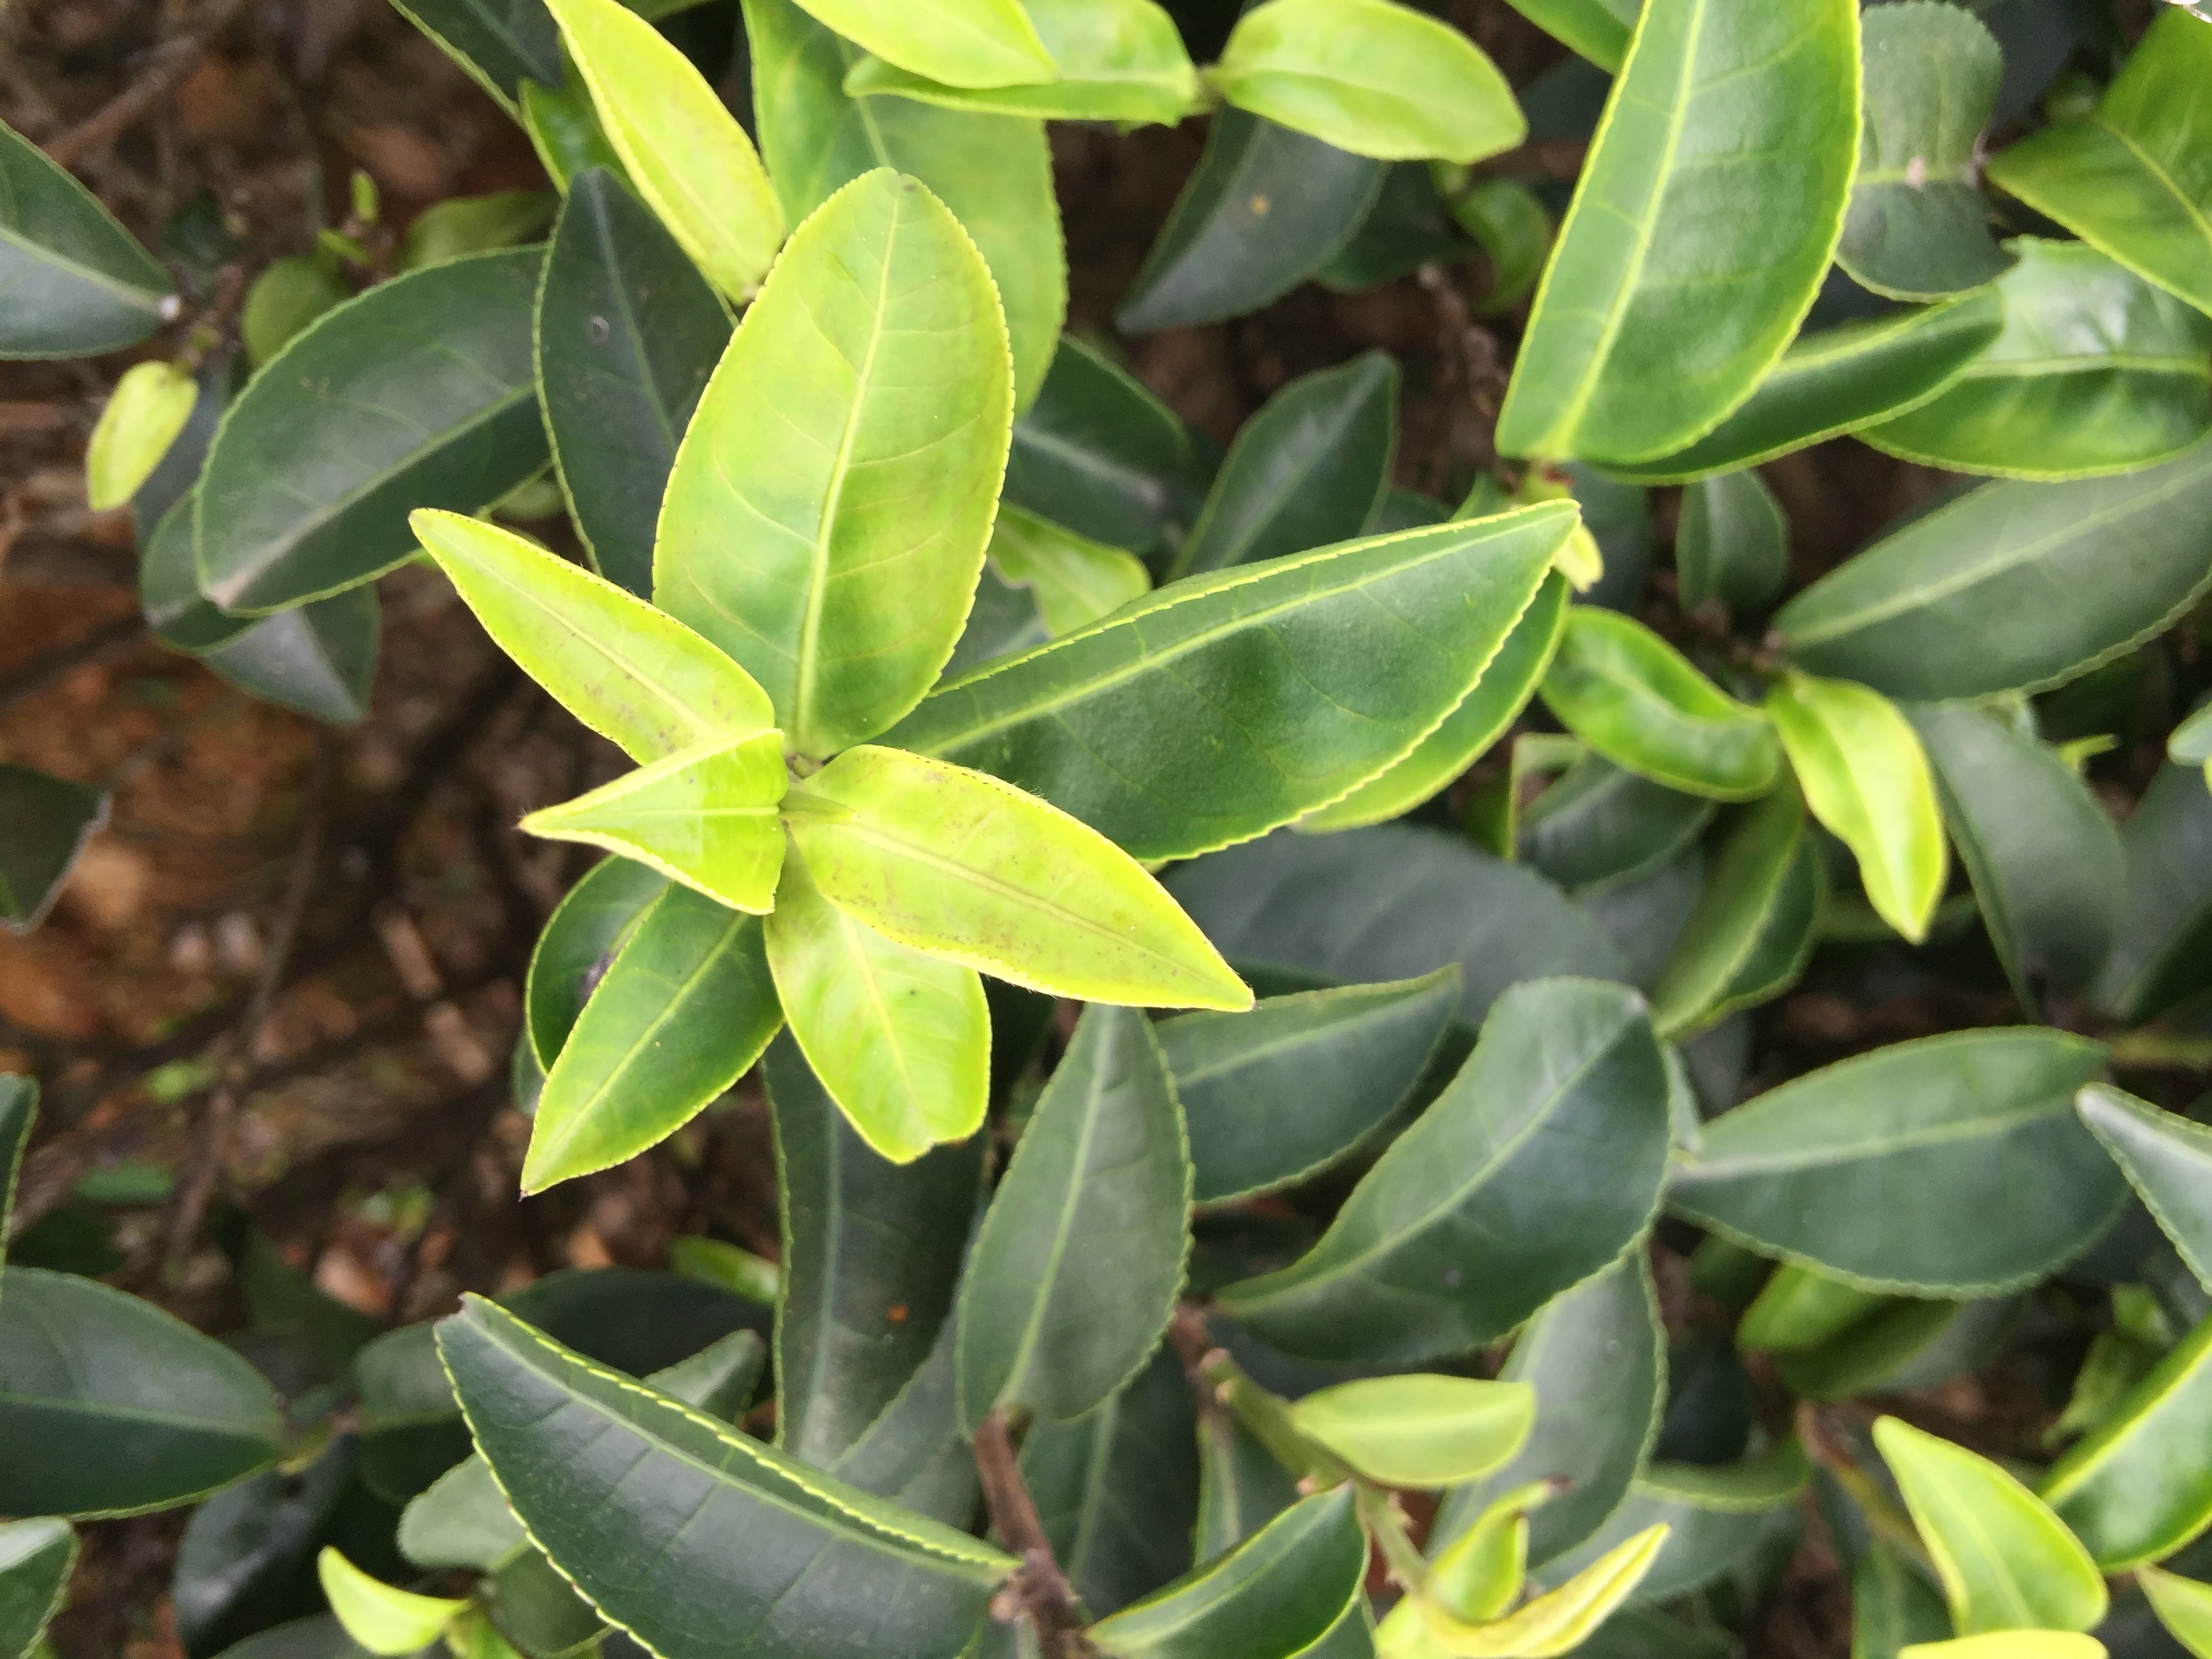formosa: (786, 744, 1266, 1016), (430, 511, 758, 784)
